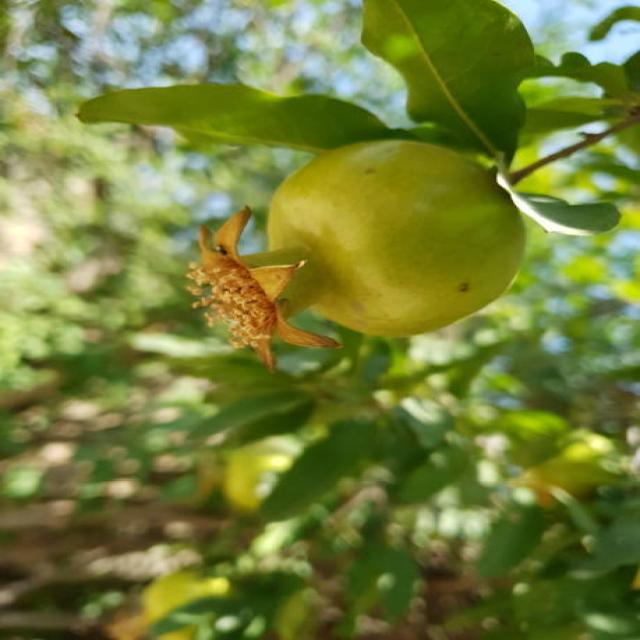Unripe: (197, 140, 524, 371)
